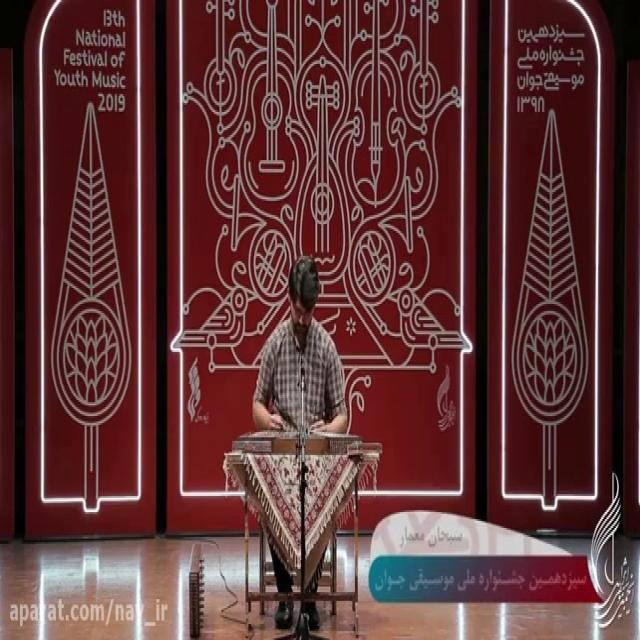Santur: (230, 425, 364, 462)
